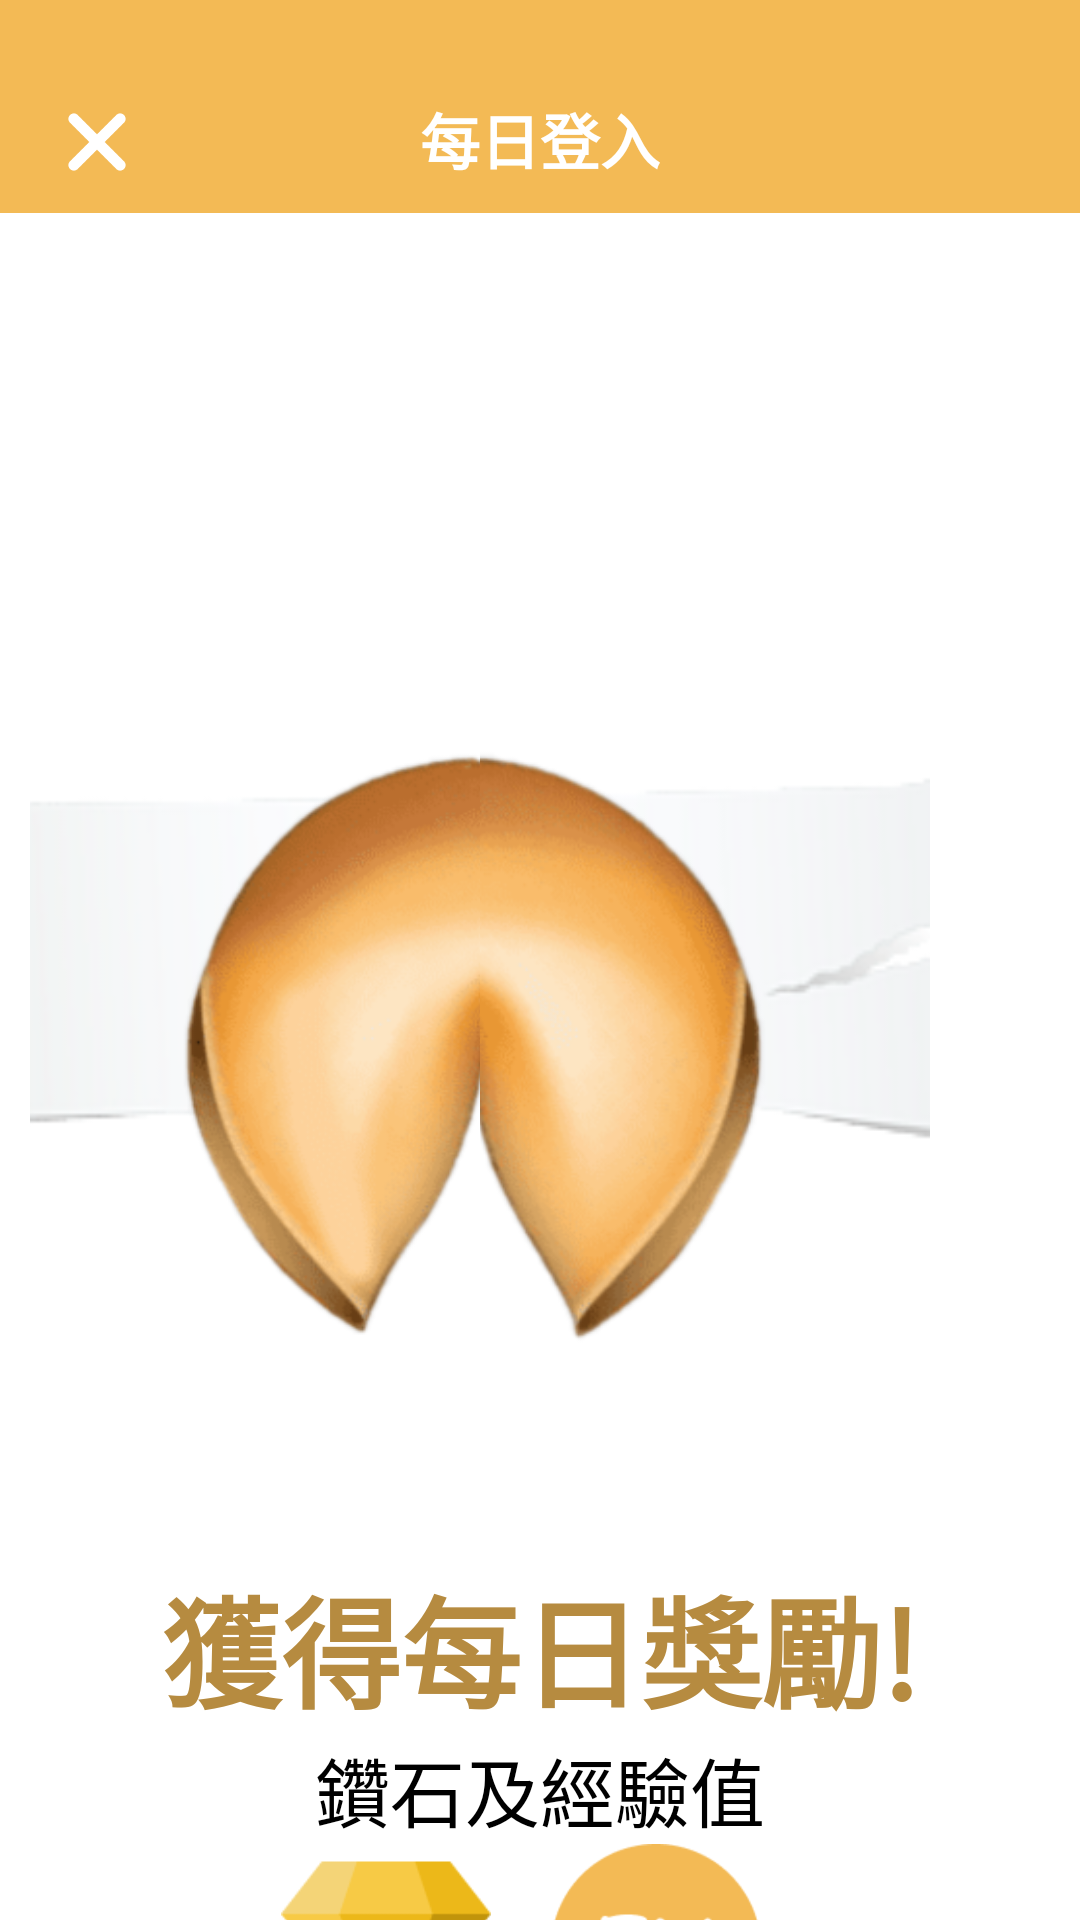

Icons on this 1080 x 1920 Android screen, each with the point to tap as point (x, y):
close: point (97, 142)
